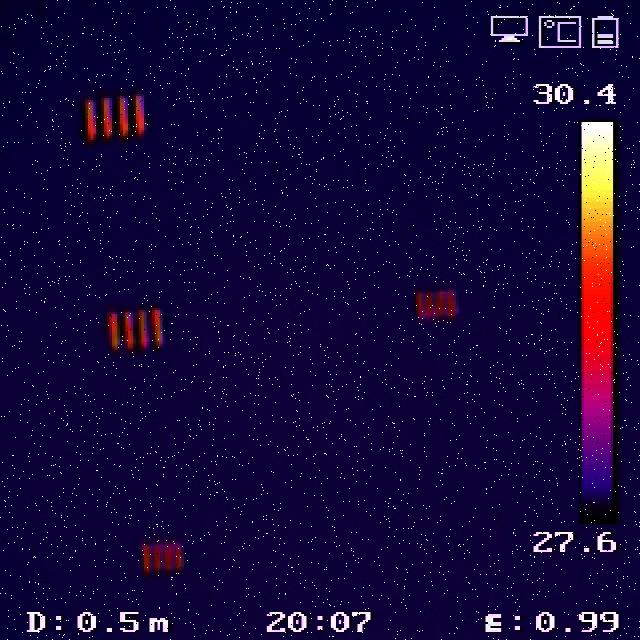Distinguishable 4-bar target: (79, 92, 148, 142), (105, 307, 164, 350)
threshold 4-bar target: (411, 285, 461, 322), (143, 543, 185, 573)
